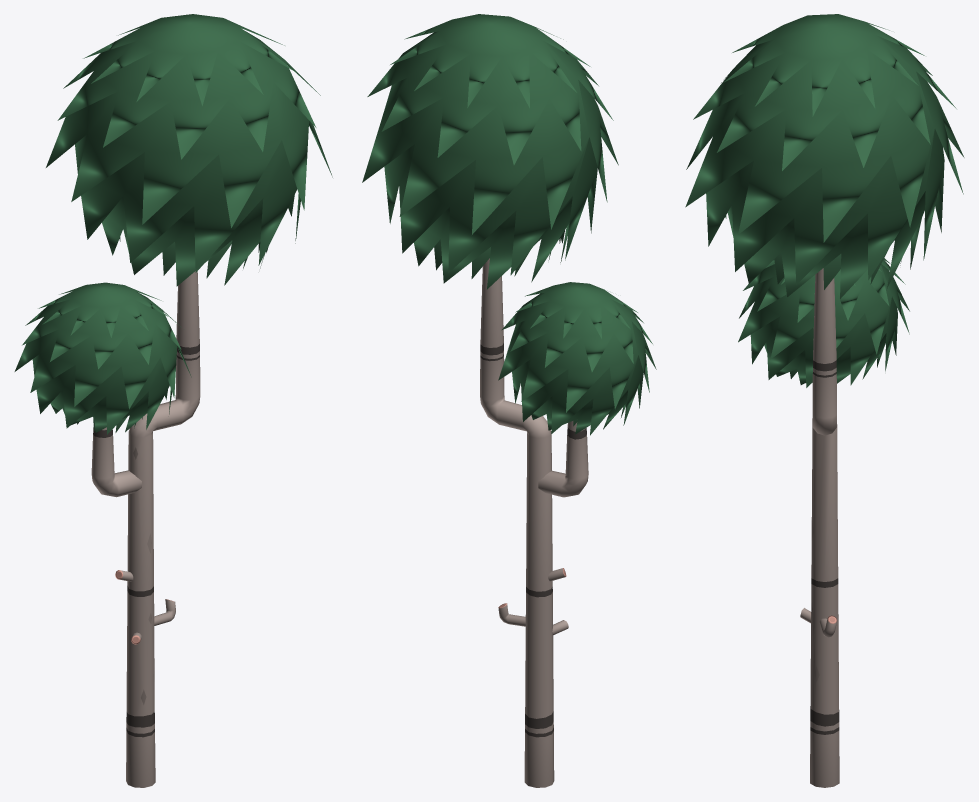
File: Tree_Birch.fbx
The picture shows the model from 3 angles, left to right: view 1: azimuth 30°, elevation 25°; view 2: azimuth 150°, elevation 25°; view 3: azimuth 270°, elevation 25°; orthographic projection. The views are drawn at different scales.
Visible parts, largest first — view 1: Tree_Birch; view 2: Tree_Birch; view 3: Tree_Birch.
Boxes of the visible parts, bbox=[...] form: Tree_Birch: bbox=[14, 14, 332, 787]; Tree_Birch: bbox=[362, 14, 656, 787]; Tree_Birch: bbox=[685, 14, 964, 787].
Bounding box in the file's own units: 5.46 × 14.06 × 4.56.
